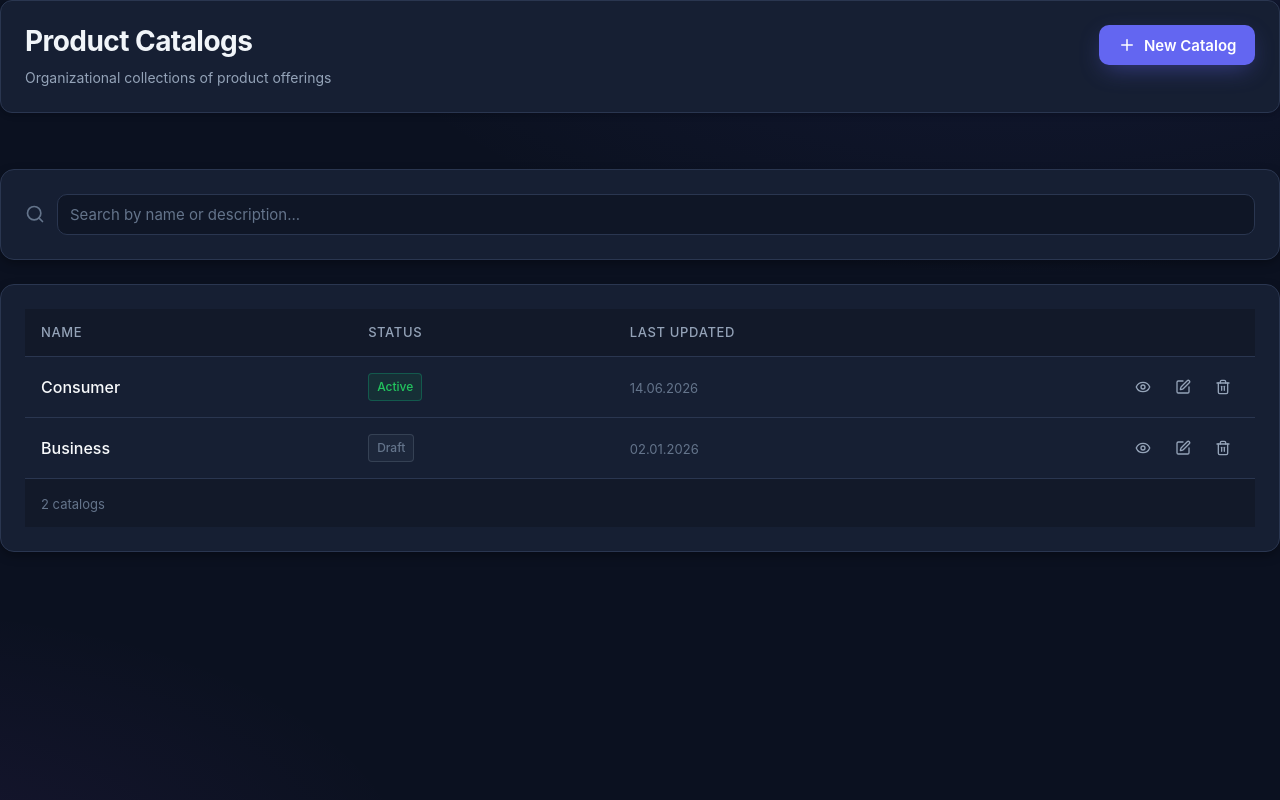
Scenario: CatalogListPage › filters by search term and shows a no-match empty state
In the field with placeholder "Search by name or description...": [656, 214] box [57, 194, 1255, 235], type "business"
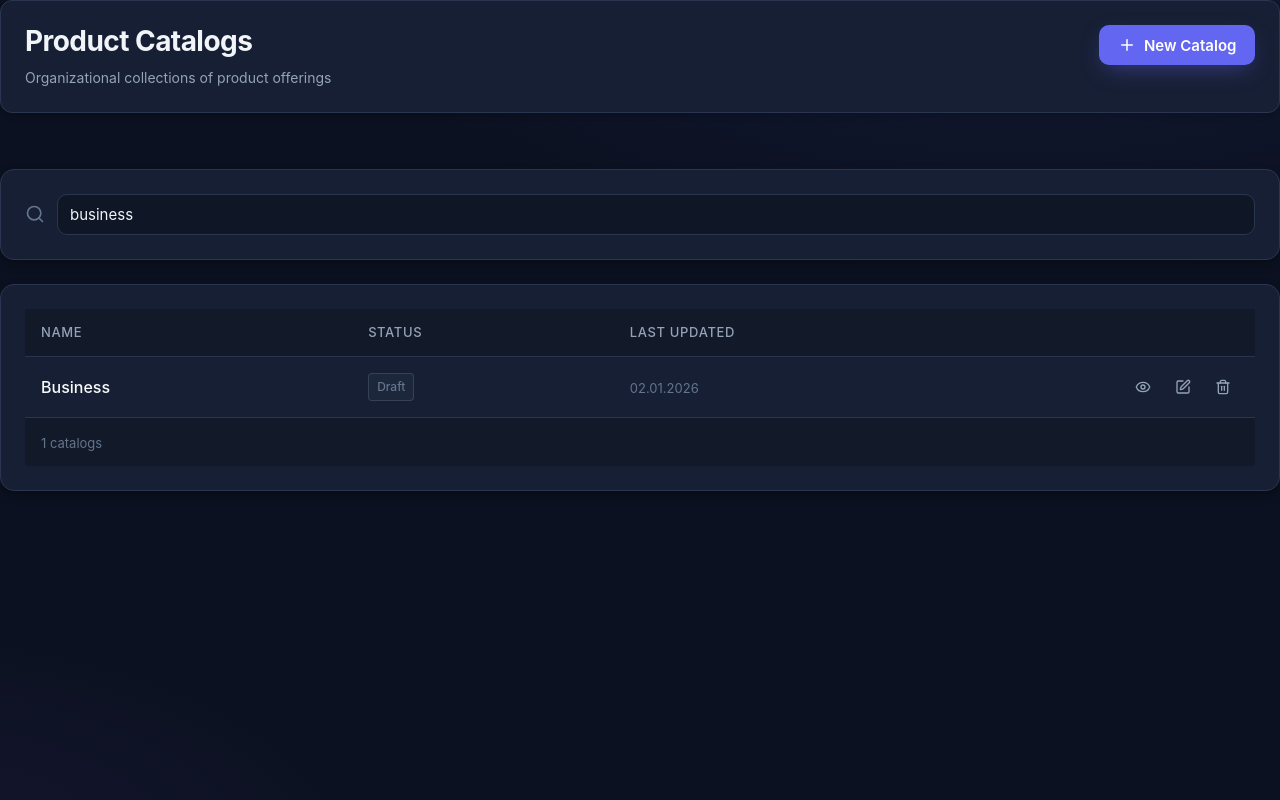
Now the text "Business" is shown, box [41, 377, 110, 397]
Now the text "Consumer" is gone
Replace the text in the field with placeholder "Search by name or description..." with "zzz": [656, 214] box [57, 194, 1255, 235]
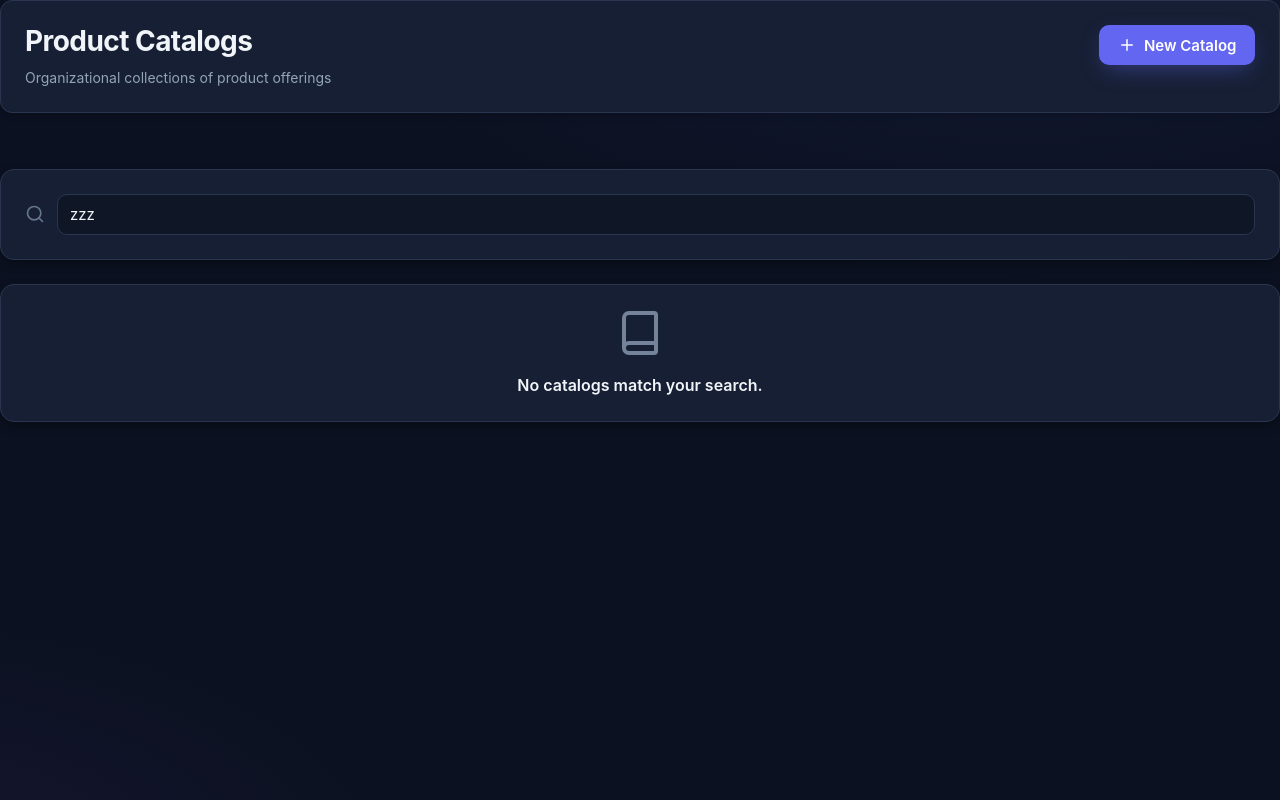
Now the text "No catalogs match your search." is shown, box [517, 373, 763, 397]
